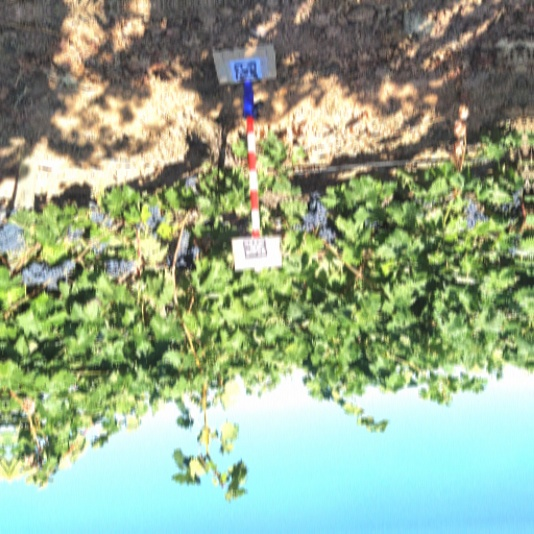QR: (244, 239, 269, 259), (235, 62, 260, 82)
